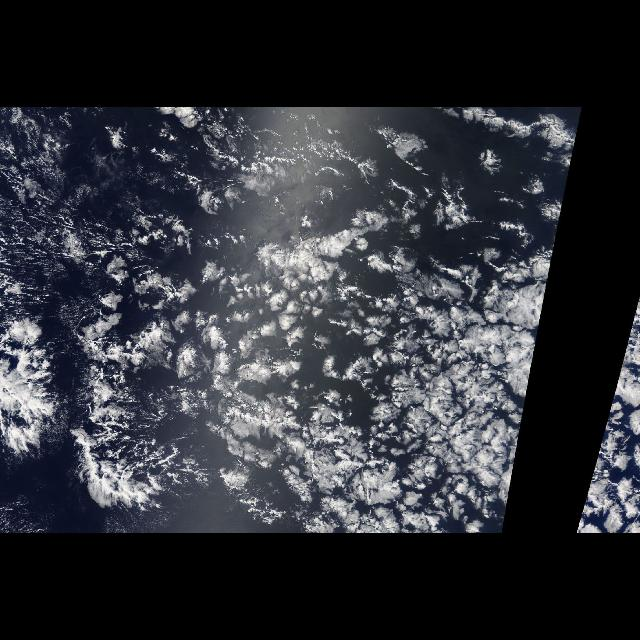Fish: (68, 295, 188, 515)
Flower: (93, 214, 504, 498)
Gravel: (2, 109, 218, 253), (60, 308, 172, 516)
Sugar: (7, 200, 103, 304)
